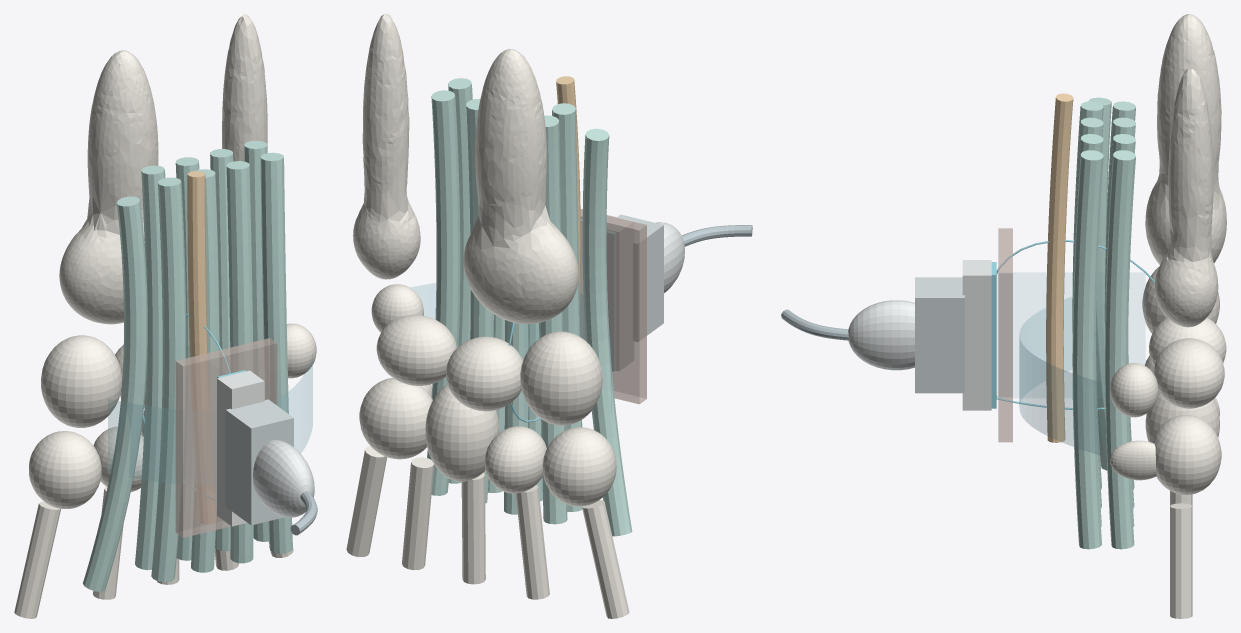
The model's file is wrist-long.glb.
The picture shows the model from 3 angles, left to right: view 1: azimuth 30°, elevation 25°; view 2: azimuth 150°, elevation 25°; view 3: azimuth 270°, elevation 25°; orthographic projection. The views are drawn at different scales.
Visible parts, largest first — view 1: Distal radius, Local skin contact patch - surrounding skin omitted, FDS tendon 1, FPL tendon, FDP tendon 1, FDS tendon 4, Median nerve, Flexor retinaculum - transparent teaching roof, Scaphoid, FDS tendon 3, Transducer body, Distal ulna (+12 smaller); view 2: Distal radius, Distal ulna, FPL tendon, Local skin contact patch - surrounding skin omitted, FDP tendon 4, Scaphoid, Capitate, Trapezium, Lunate, Hamate, Triquetrum, Transducer body (+20 smaller); view 3: Distal ulna, FDS tendon 4, FDP tendon 4, Distal radius, Flexor retinaculum - transparent teaching roof, Median nerve, Illustrative imaging plane - not a simulated sonogram, Transducer body, Hamate, Transducer head, Transducer grip, Triquetrum (+16 smaller).
Boxes of the visible parts, x1,y1,x2,y2 form: Distal radius: [59, 50, 158, 324]; Local skin contact patch - surrounding skin omitted: [175, 338, 277, 537]; FDS tendon 1: [151, 177, 186, 582]; FPL tendon: [83, 196, 147, 591]; FDP tendon 1: [135, 165, 165, 570]; FDS tendon 4: [260, 152, 292, 553]; Median nerve: [187, 171, 216, 524]; Flexor retinaculum - transparent teaching roof: [108, 354, 312, 483]; Scaphoid: [41, 335, 121, 427]; FDS tendon 3: [226, 161, 253, 563]; Transducer body: [225, 399, 293, 525]; Distal ulna: [221, 14, 267, 161]; Distal radius: [463, 49, 578, 323]; Distal ulna: [353, 14, 420, 279]; FPL tendon: [582, 128, 632, 536]; Local skin contact patch - surrounding skin omitted: [580, 209, 646, 404]; FDP tendon 4: [427, 90, 460, 495]; Scaphoid: [520, 331, 602, 425]; Capitate: [425, 384, 499, 481]; Trapezium: [542, 427, 616, 506]; Lunate: [446, 336, 522, 411]; Hamate: [359, 378, 432, 459]; Triquetrum: [376, 315, 456, 385]; Transducer body: [617, 214, 663, 341]; Distal ulna: [1155, 68, 1218, 327]; FDS tendon 4: [1072, 150, 1103, 549]; FDP tendon 4: [1105, 150, 1135, 549]; Distal radius: [1145, 14, 1226, 264]; Flexor retinaculum - transparent teaching roof: [1019, 297, 1101, 455]; Median nerve: [1046, 93, 1073, 442]; Illustrative imaging plane - not a simulated sonogram: [997, 273, 1144, 397]; Transducer body: [915, 277, 964, 393]; Hamate: [1152, 415, 1221, 494]; Transducer head: [962, 260, 991, 410]; Transducer grip: [848, 300, 914, 370]; Triquetrum: [1153, 338, 1224, 408].
Size of the model in its own units: 1.94 by 3.65 by 2.75.
